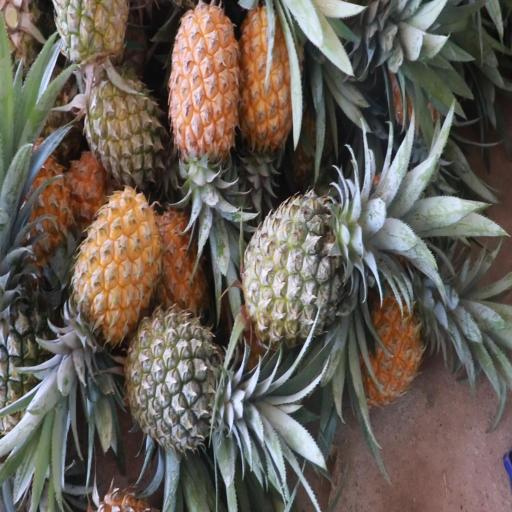Pineapple - v8 v1: (60, 186, 165, 372), (170, 0, 242, 213), (239, 0, 294, 163)
